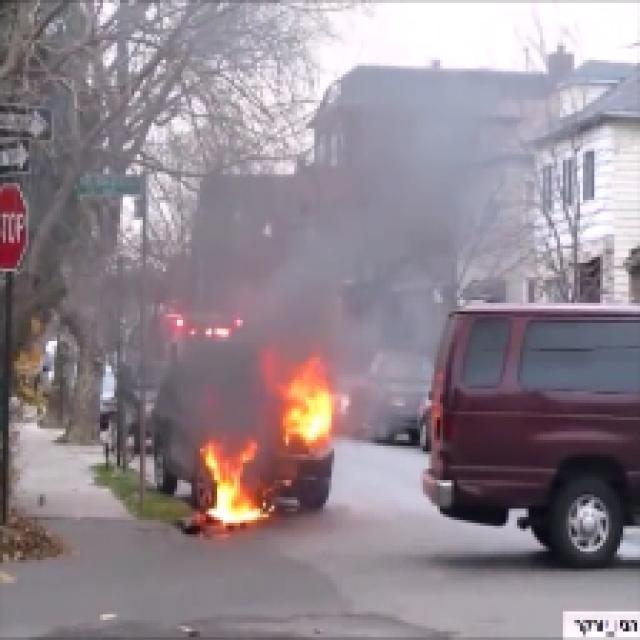Fire: (200, 446, 266, 526), (283, 358, 327, 450)
Smoke: (349, 106, 451, 343), (194, 212, 340, 353), (197, 360, 261, 440)
